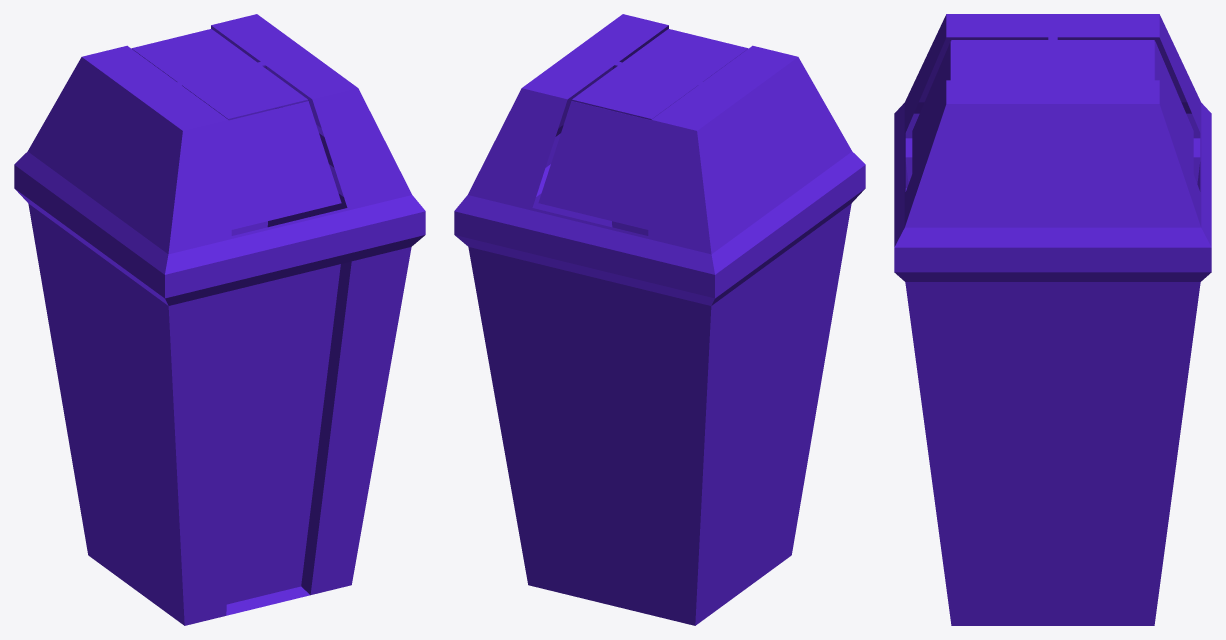
The model's file is lixeira2.fbx.
3 views of the same model, side by side, from view 1: azimuth 30°, elevation 25°; view 2: azimuth 150°, elevation 25°; view 3: azimuth 270°, elevation 25° (orthographic). The views are drawn at different scales.
Parts seen in each view (by area): view 1: Cube, Cube.001; view 2: Cube, Cube.001; view 3: Cube, Cube.001.
Part boxes in pixels (x1,y1,x2,y2): Cube: (14,14,425,625); Cube.001: (131,29,341,229); Cube: (454,14,865,625); Cube.001: (538,29,748,229); Cube: (894,14,1211,625); Cube.001: (912,37,1193,173).
Size of the model in its own units: 432 by 787 by 432.
